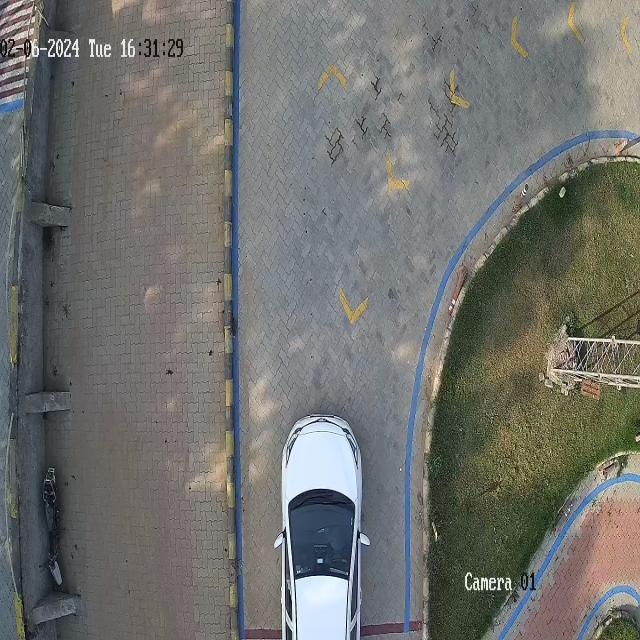car: (275, 416, 369, 640)
